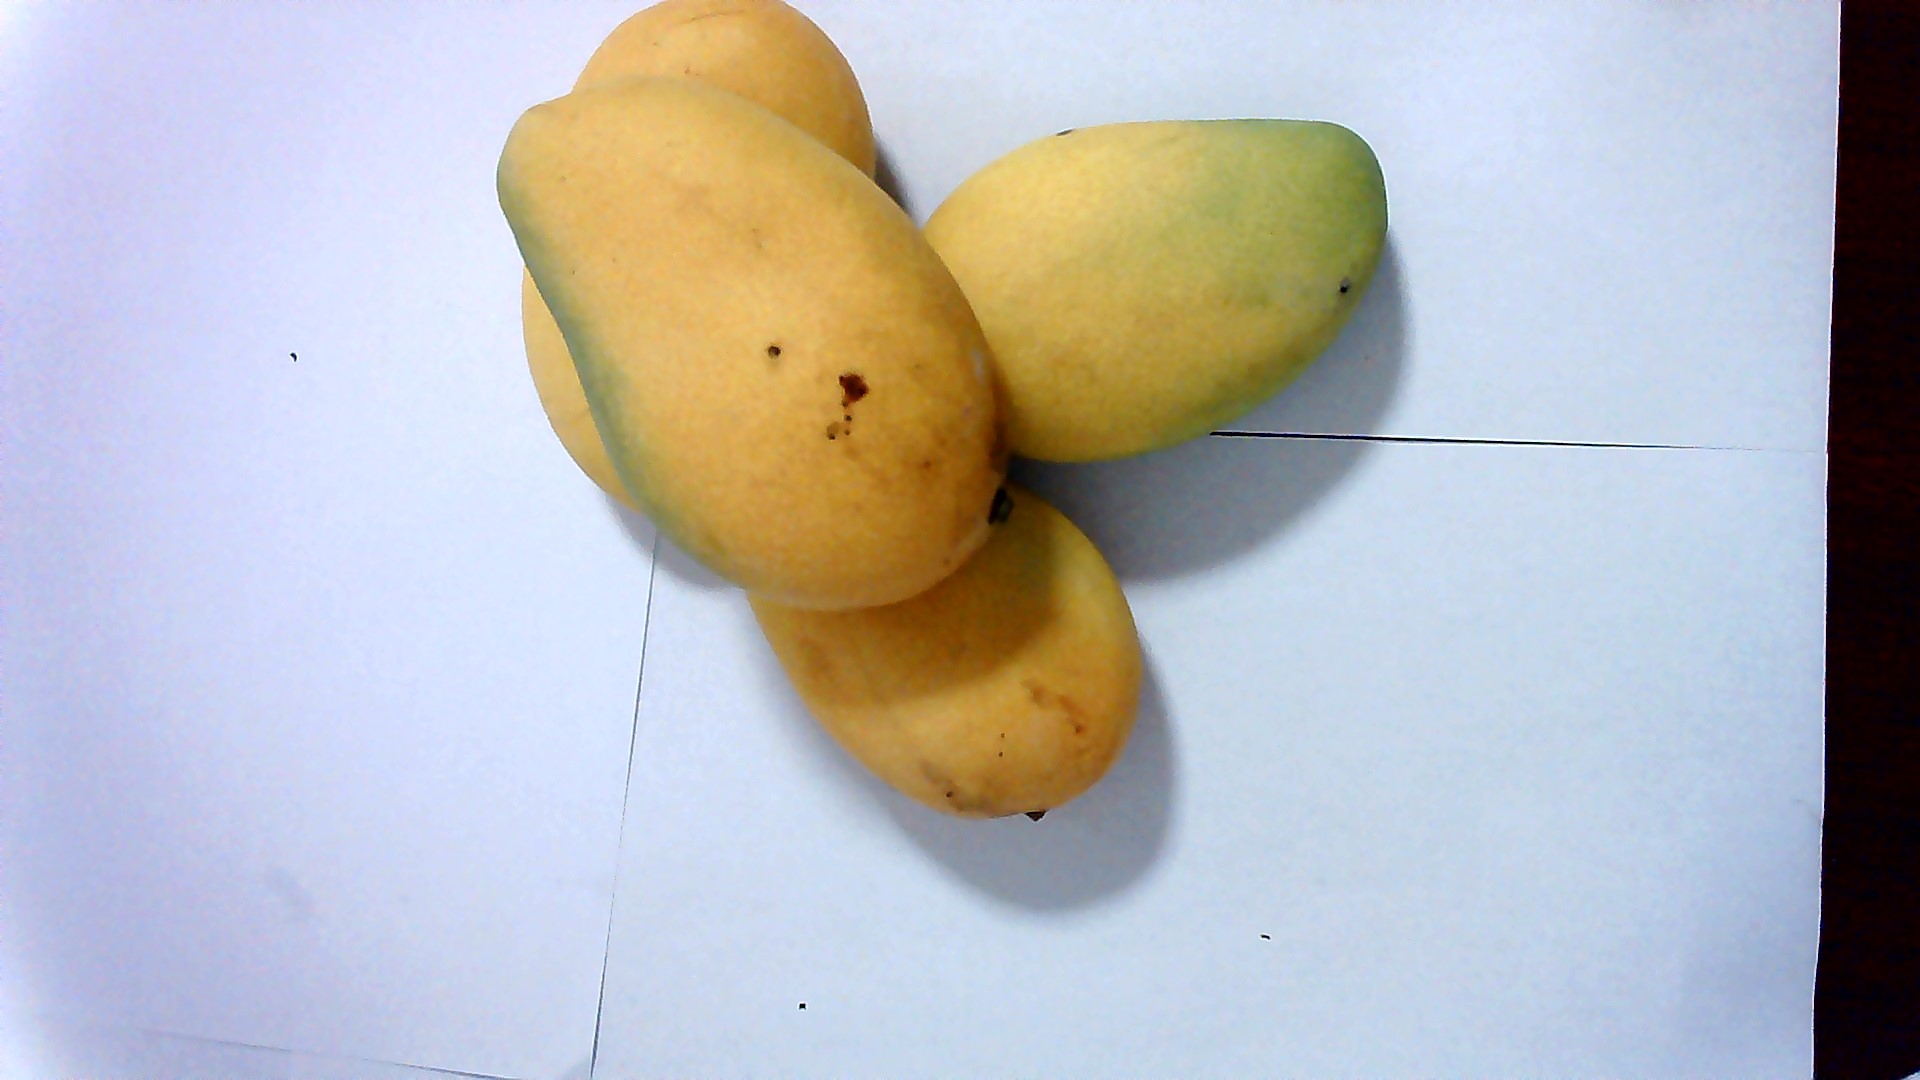mongo: (501, 87, 1004, 595), (927, 127, 1383, 447), (779, 456, 1153, 810)
